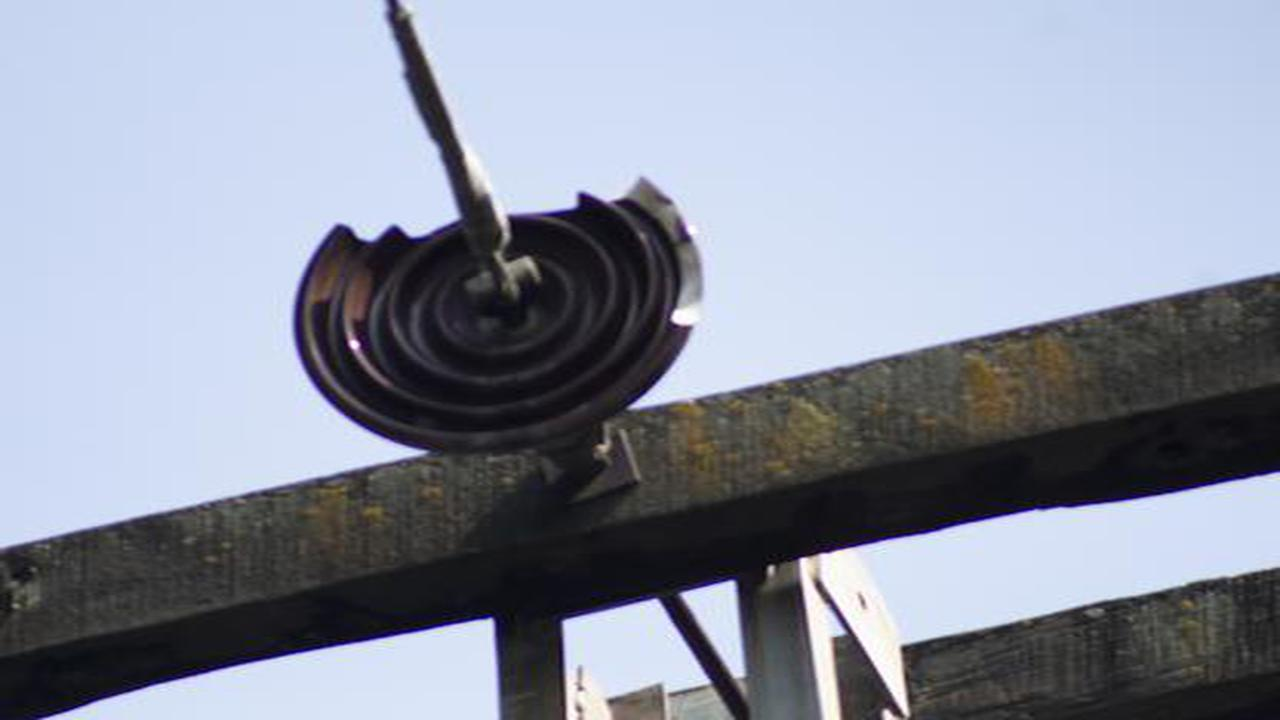defect_disc: (286, 169, 718, 451)
